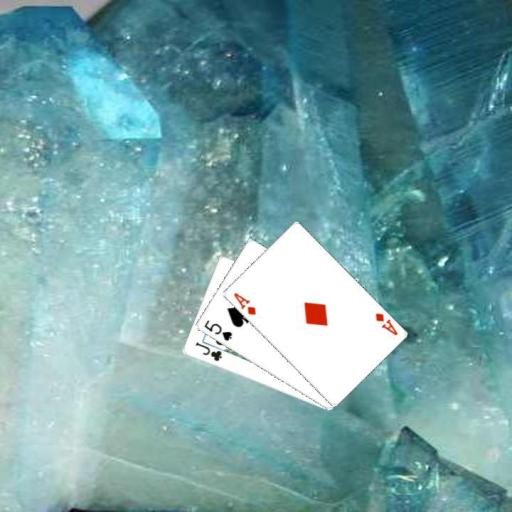5S: (201, 317, 233, 343)
AD: (231, 290, 258, 317), (372, 310, 399, 337)
JC: (192, 339, 223, 363)
